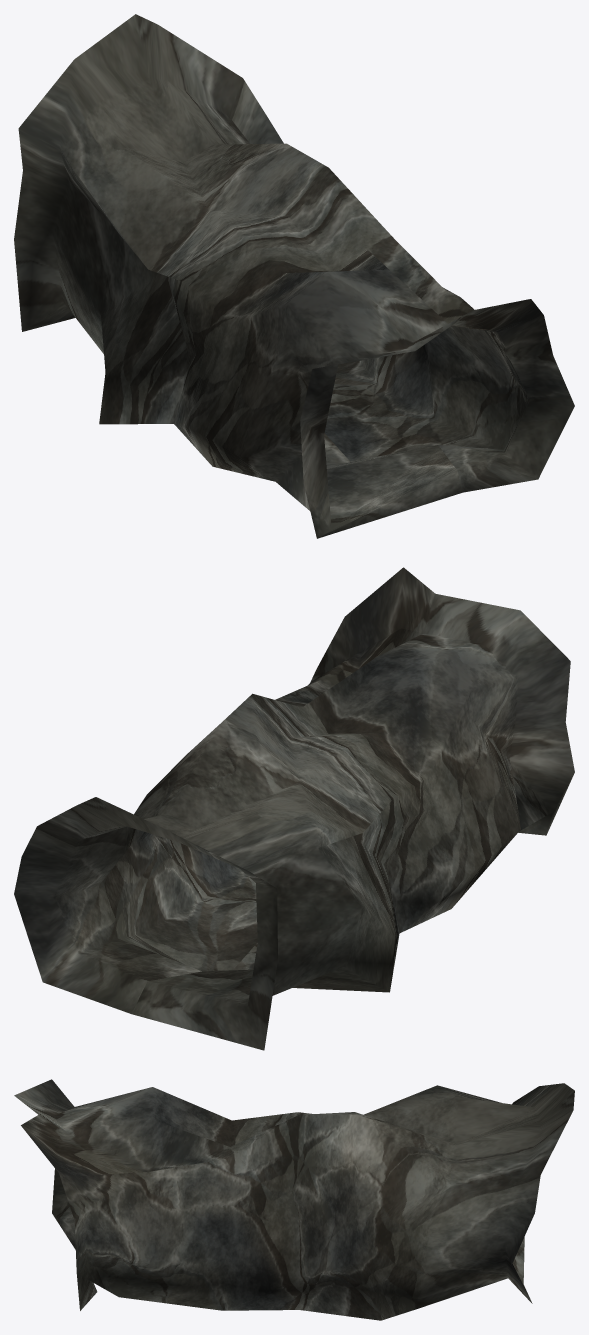
Rendered from CrawlConnector.fbx.
The picture shows the model from 3 angles, top to bottom: view 1: azimuth 30°, elevation 25°; view 2: azimuth 150°, elevation 25°; view 3: azimuth 270°, elevation 25°; orthographic projection. The views are drawn at different scales.
Visible parts, largest first — view 1: CrawlConnector; view 2: CrawlConnector; view 3: CrawlConnector.
Boxes of the visible parts, x1=… form: CrawlConnector: x1=14, y1=14, x2=574, y2=538; CrawlConnector: x1=14, y1=567, x2=574, y2=1050; CrawlConnector: x1=14, y1=1079, x2=574, y2=1320.
Bounding box in the file's own units: 2.63 × 2.31 × 5.5.
